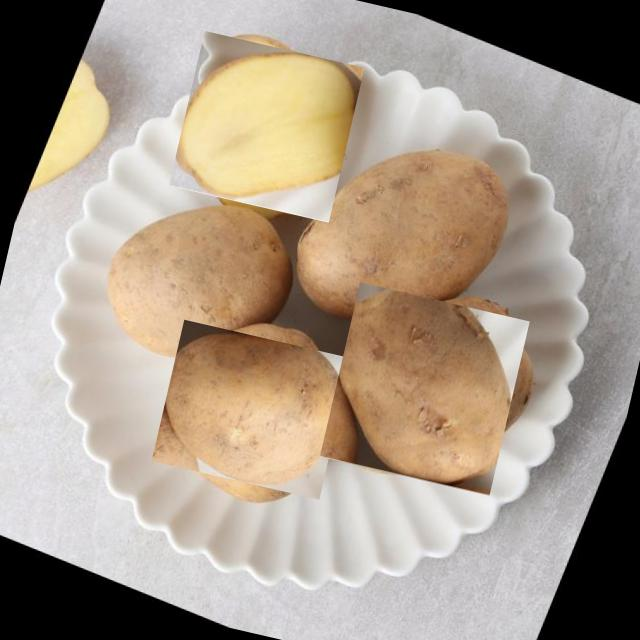potato: (318, 282, 530, 494), (168, 30, 362, 224), (156, 315, 346, 505)
